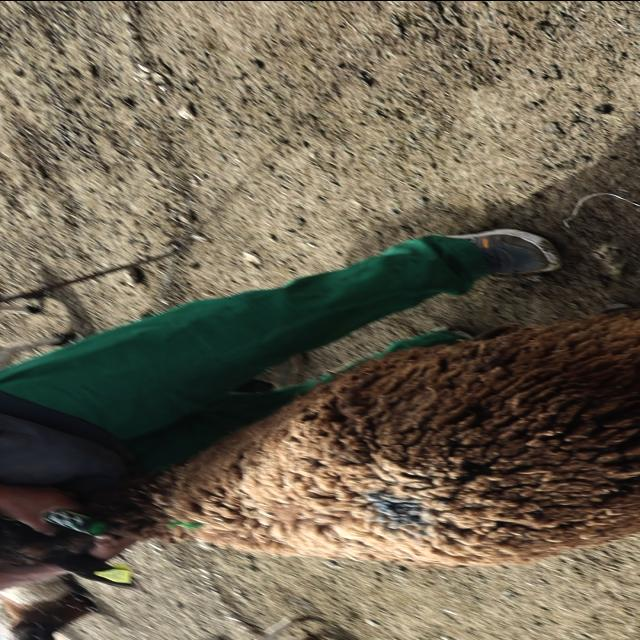Score_1: (87, 309, 639, 567)
